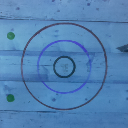Axe Tip: (116, 47, 128, 51)
